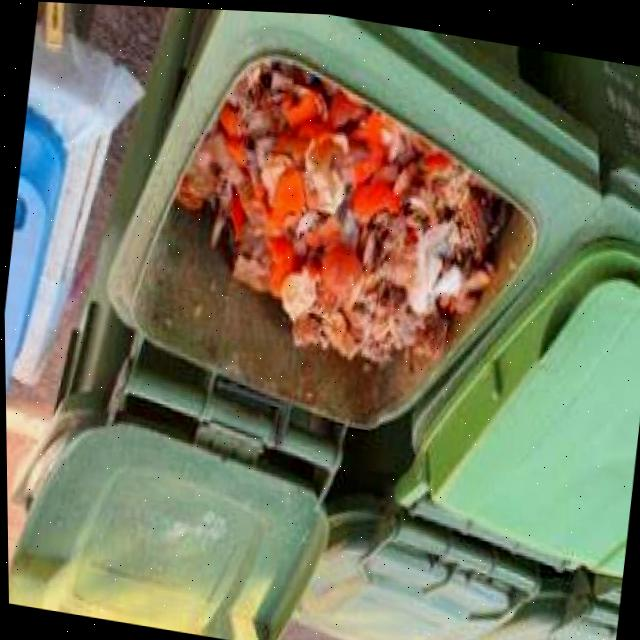Garbage: (176, 64, 504, 358)
